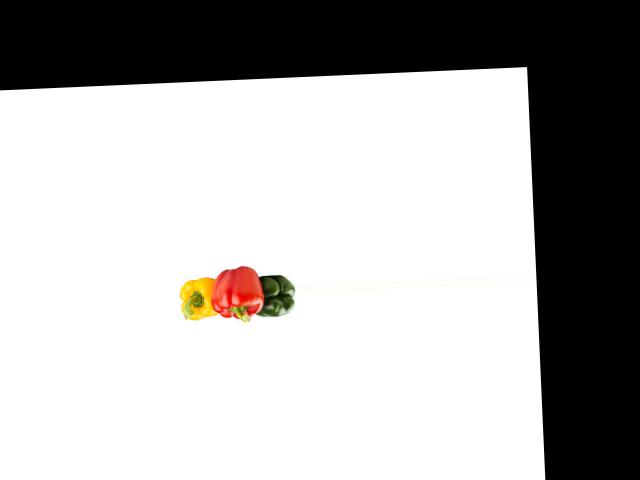bell_pepper: (176, 268, 221, 325)
